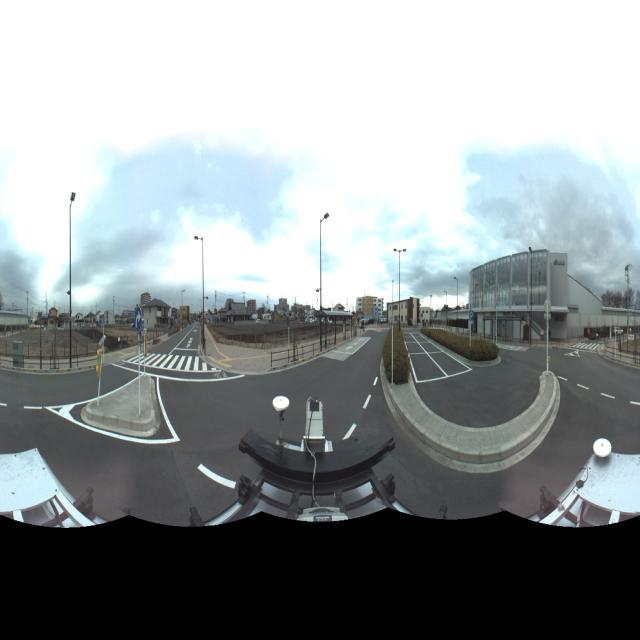b_1: (469, 253, 571, 356), (143, 291, 175, 332), (386, 298, 424, 332), (356, 291, 391, 323), (181, 296, 195, 328), (48, 304, 61, 334)
